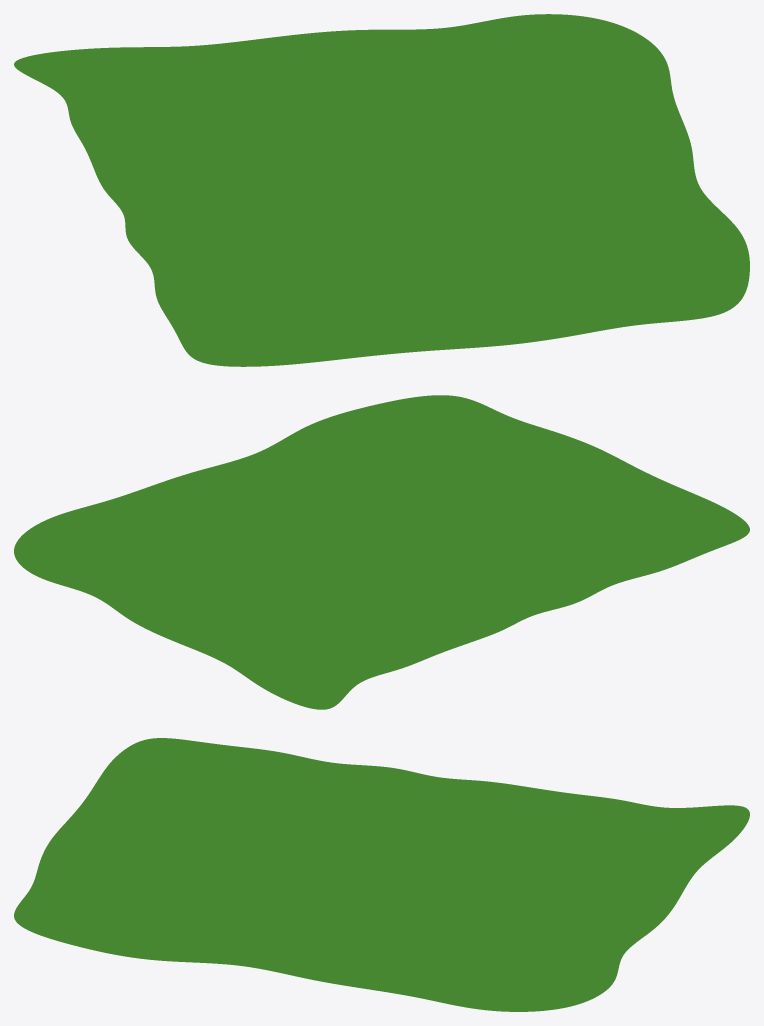
The model's file is inside.dae.
3 renders of one model, top to bottom at view 1: azimuth 30°, elevation 25°; view 2: azimuth 150°, elevation 25°; view 3: azimuth 270°, elevation 25°, orthographic. The views are drawn at different scales.
Visible parts, largest first — view 1: Curve.001; view 2: Curve.001; view 3: Curve.001.
Part boxes in pixels (x1,y1,x2,y2): Curve.001: (14, 14, 749, 366); Curve.001: (14, 395, 749, 709); Curve.001: (14, 738, 749, 1011).
Size of the model in its own units: 24.31 by 27.6 by 0.
